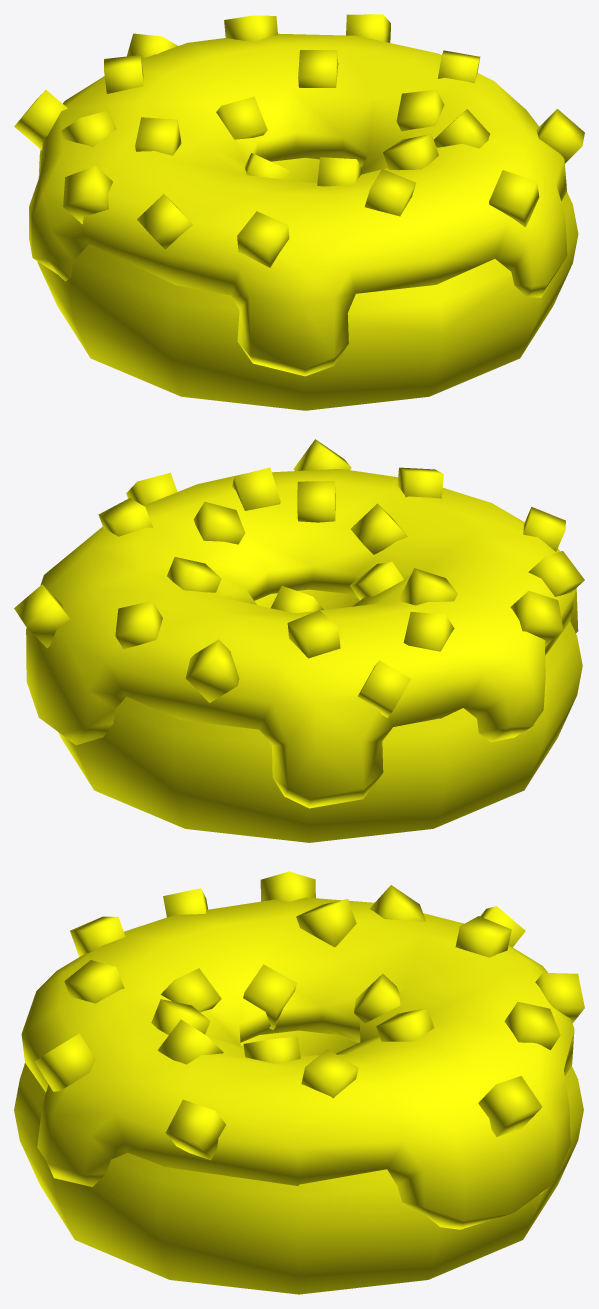
The picture shows the model from 3 angles, top to bottom: view 1: azimuth 30°, elevation 25°; view 2: azimuth 150°, elevation 25°; view 3: azimuth 270°, elevation 25°; orthographic projection. The views are drawn at different scales.
Parts seen in each view (by area): view 1: m_Donut06; view 2: m_Donut06; view 3: m_Donut06.
Boxes of the visible parts, x1=… form: m_Donut06: x1=14, y1=14, x2=584, y2=410; m_Donut06: x1=14, y1=439, x2=584, y2=842; m_Donut06: x1=14, y1=871, x2=584, y2=1294.
Size of the model in its own units: 0.1247 by 0.058 by 0.1218.
1 material, 1 textured.
